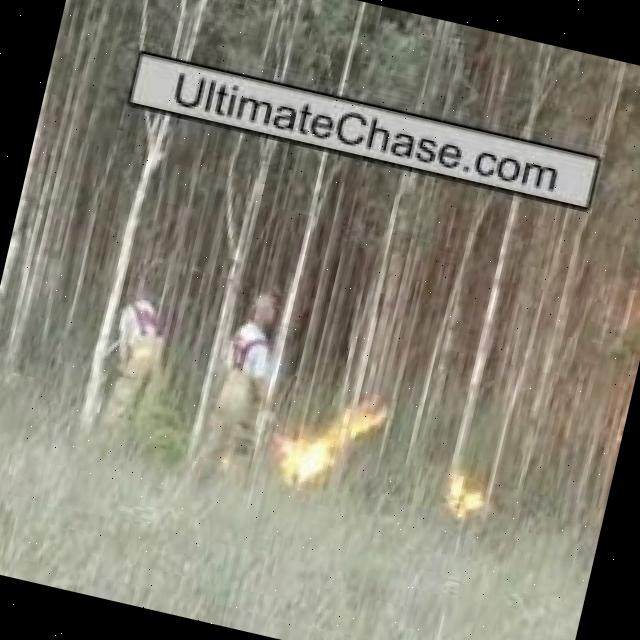fire: (266, 393, 394, 504), (266, 429, 348, 491), (441, 473, 488, 520)
